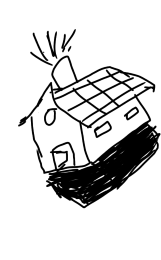door: (45, 141, 79, 172)
open_window: (94, 118, 117, 145), (122, 101, 142, 125)
roof: (5, 63, 160, 129)
shadow: (28, 126, 161, 208)
smoking_chimney: (23, 22, 86, 86)
wall: (28, 100, 90, 177)
